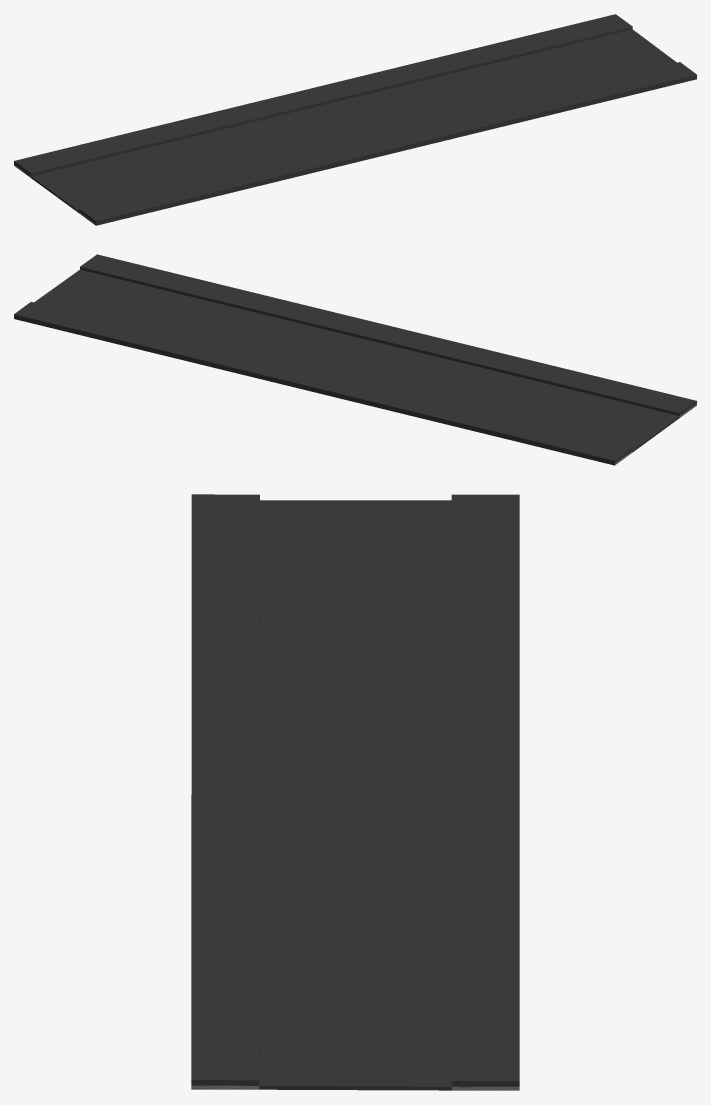
Rendered from MM1267_Pista1.FBX.
3 views of the same model, one above another, from view 1: azimuth 30°, elevation 25°; view 2: azimuth 150°, elevation 25°; view 3: azimuth 270°, elevation 25° (orthographic). The views are drawn at different scales.
Visible parts, largest first — view 1: MM1267_Pista1; view 2: MM1267_Pista1; view 3: MM1267_Pista1.
Boxes of the visible parts, x1,y1,x2,y2 form: MM1267_Pista1: (14, 14, 696, 225); MM1267_Pista1: (14, 254, 696, 465); MM1267_Pista1: (191, 494, 519, 1090).
Bounding box in the file's own units: 5821 × 1377 × 44.09.
